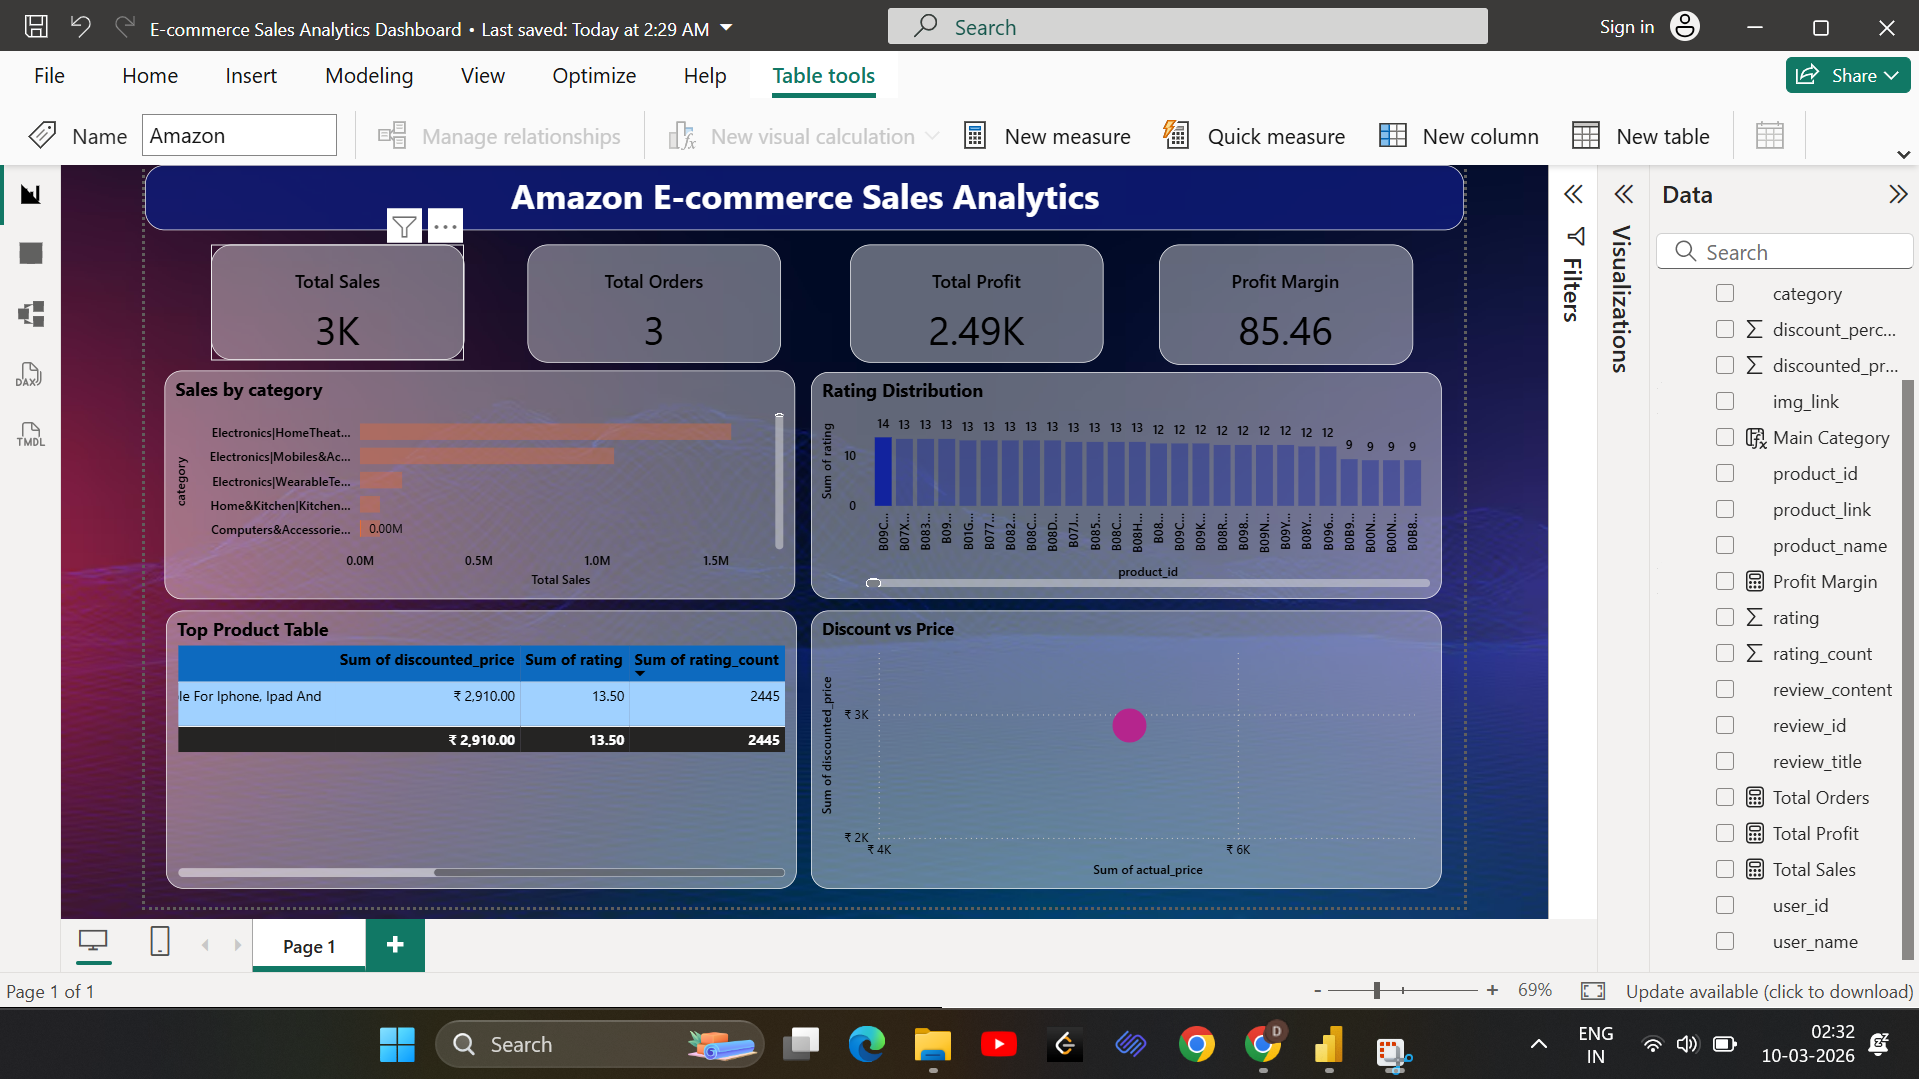

Layout of this report page (visuals, bound fields, positions):
{"tool":"powerbi","page":{"name":"Page 1","canvas":[1280,720],"ordinal":0},"visuals":[{"type":"textbox","title":"Amazon E-commerce Sales Analytics","box":[0,0,1280,63.3],"z":0},{"type":"cardVisual","fields":{"Data":["Amazon.Total Profit"]},"box":[683.8,77.3,246.1,115],"z":1000},{"type":"clusteredBarChart","title":"Sales by category","fields":{"Category":["Amazon.category"],"Y":["Amazon.Total Sales"]},"box":[19.4,199.2,612.1,221.8],"z":2000},{"type":"clusteredColumnChart","title":"Rating Distribution","fields":{"Y":["Sum(Amazon.rating)"],"Category":["Amazon.product_id"]},"box":[646.1,200.8,612.1,220.2],"z":3000},{"type":"tableEx","title":"Top Product Table","fields":{"Values":["Amazon.product_name","Sum(Amazon.discounted_price)","Sum(Amazon.rating)","Sum(Amazon.rating_count)"]},"box":[20,431.7,611.7,270],"z":4000},{"type":"scatterChart","title":"Discount vs Price","fields":{"X":["Sum(Amazon.actual_price)"],"Y":["Sum(Amazon.discounted_price)"],"Size":["Sum(Amazon.rating_count)"],"Category":["Amazon.product_name"]},"box":[646.7,431.7,611.7,270],"z":5000},{"type":"cardVisual","fields":{"Data":["Amazon.Profit Margin"]},"box":[983.3,76.7,246.7,116.7],"z":7000},{"type":"cardVisual","fields":{"Data":["Amazon.Total Orders"]},"box":[371.3,77.3,246.1,115],"z":8000},{"type":"cardVisual","fields":{"Data":["Amazon.Total Sales"]},"box":[63.6,77.3,246.1,111.7],"z":9000}]}

Visuals, with their boxes on the page's 1280x720 design canvas (x1, y1, x2, y2). These are canvas units, not pixel positions in the 1919x1079 screenshot, which may show the page scaled, cropped or inside an application window:
"Amazon E-commerce Sales Analytics" textbox: Rect(0, 0, 1280, 63)
cardVisual - Amazon.Total Profit: Rect(684, 77, 930, 192)
"Sales by category" clusteredBarChart: Rect(19, 199, 632, 421)
"Rating Distribution" clusteredColumnChart: Rect(646, 201, 1258, 421)
"Top Product Table" tableEx: Rect(20, 432, 632, 702)
"Discount vs Price" scatterChart: Rect(647, 432, 1258, 702)
cardVisual - Amazon.Profit Margin: Rect(983, 77, 1230, 193)
cardVisual - Amazon.Total Orders: Rect(371, 77, 617, 192)
cardVisual - Amazon.Total Sales: Rect(64, 77, 310, 189)
